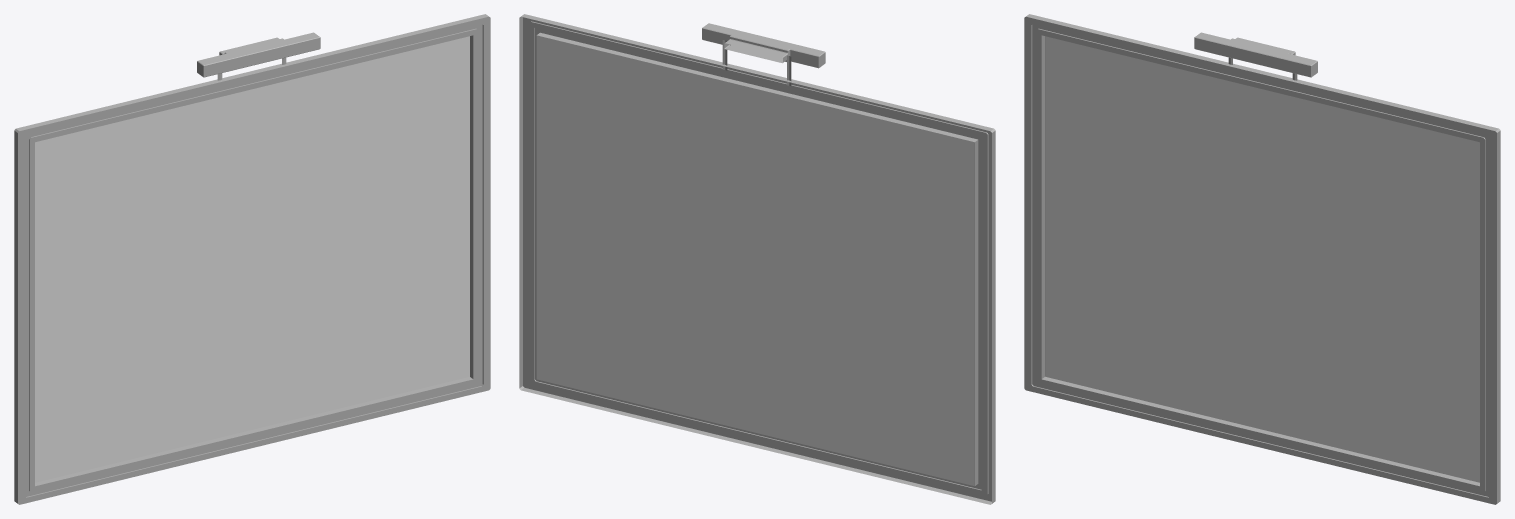
The model's file is board.glb.
3 renders of one model, left to right at view 1: azimuth 30°, elevation 25°; view 2: azimuth 150°, elevation 25°; view 3: azimuth 330°, elevation 25°, orthographic.
Visible parts, largest first — view 1: Plane.001; view 2: Plane.001; view 3: Plane.001.
Boxes of the visible parts, x1,y1,x2,y2 form: Plane.001: (14,14,490,504); Plane.001: (519,14,995,504); Plane.001: (1024,14,1500,504).
Bounding box in the file's own units: 1.56 × 1.27 × 0.0773.
1 material, 1 textured.
